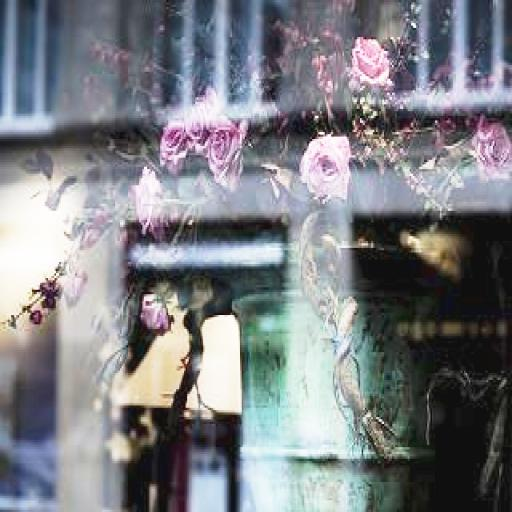rose: (296, 130, 352, 202), (470, 111, 512, 181), (203, 116, 243, 183), (155, 120, 197, 167), (350, 37, 390, 86), (136, 162, 158, 234), (142, 294, 170, 332)
